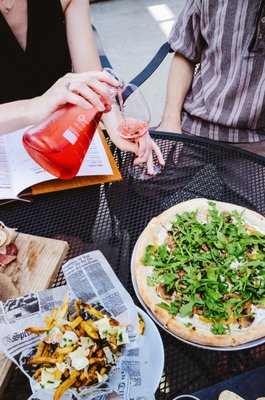curry: (0, 130, 265, 400)
sandwich: (131, 199, 265, 347), (100, 78, 165, 179)
